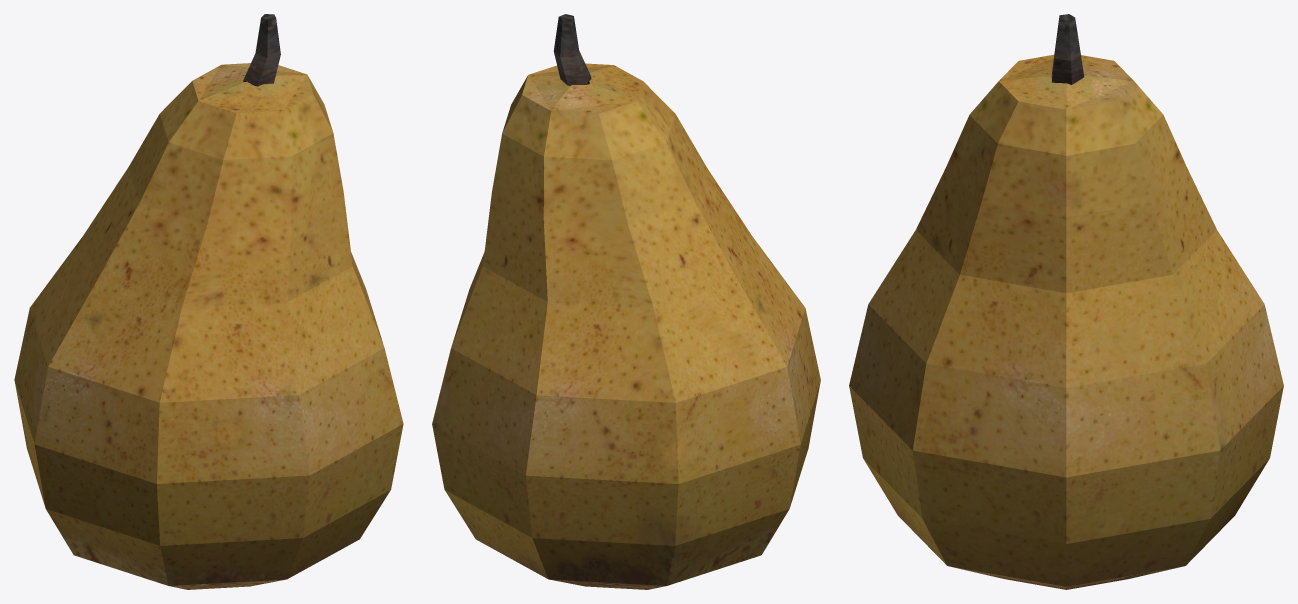
The model's file is pear.obj.
3 views of the same model, side by side, from view 1: azimuth 30°, elevation 25°; view 2: azimuth 150°, elevation 25°; view 3: azimuth 270°, elevation 25° (orthographic). The views are drawn at different scales.
Visible parts, largest first — view 1: Pear; view 2: Pear; view 3: Pear.
Boxes of the visible parts, x1=… form: Pear: x1=14, y1=14, x2=403, y2=589; Pear: x1=432, y1=14, x2=820, y2=589; Pear: x1=849, y1=14, x2=1283, y2=589.
Bounding box in the file's own units: 0.0744 × 0.1093 × 0.0744.
